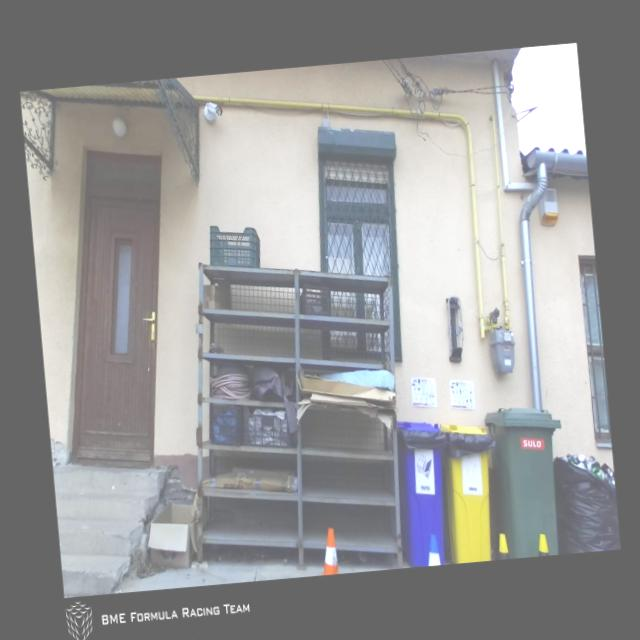blue_cone: (424, 534, 440, 566)
orange_cone: (318, 526, 340, 574)
yellow_cone: (495, 532, 510, 560), (536, 532, 548, 556)
